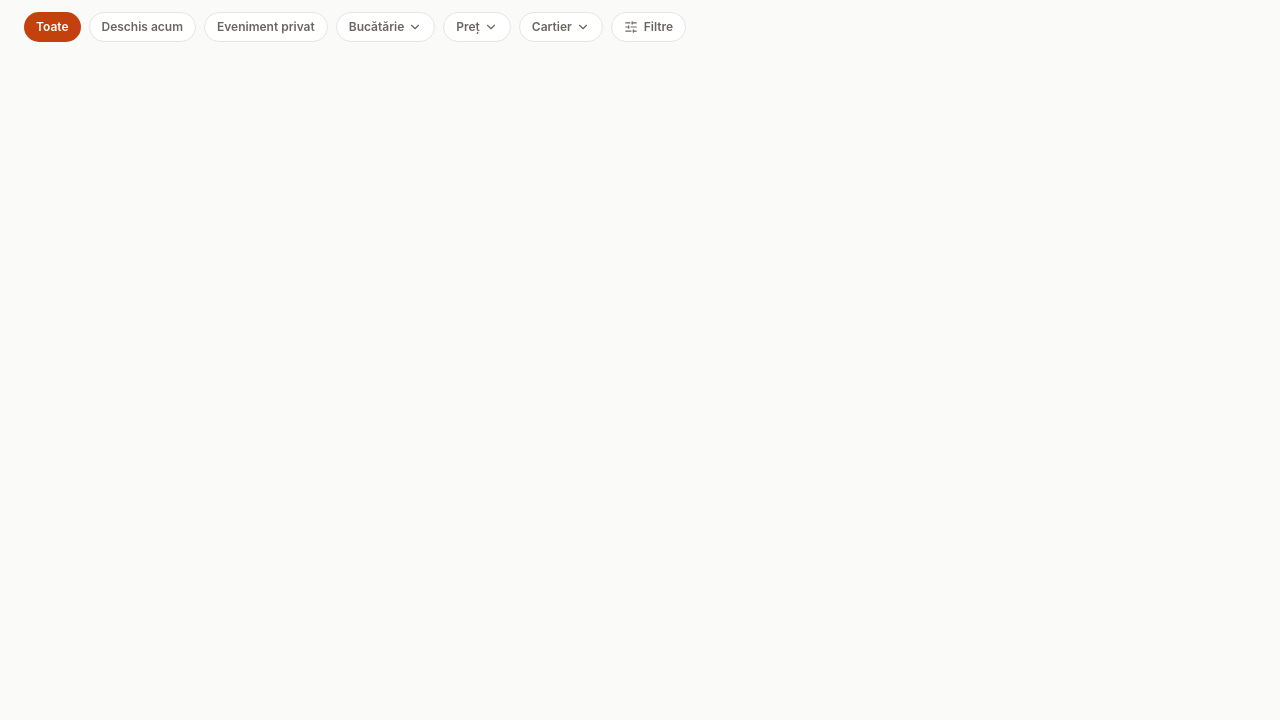
Test: FilterPillBar › clicking Bucătărie opens an inline popover with cuisine items
What coordinates should you click on to do the following:
click the button "Bucătărie"
I would click on:
 (385, 27)
Its box is x1=336 y1=12 x2=435 y2=42.
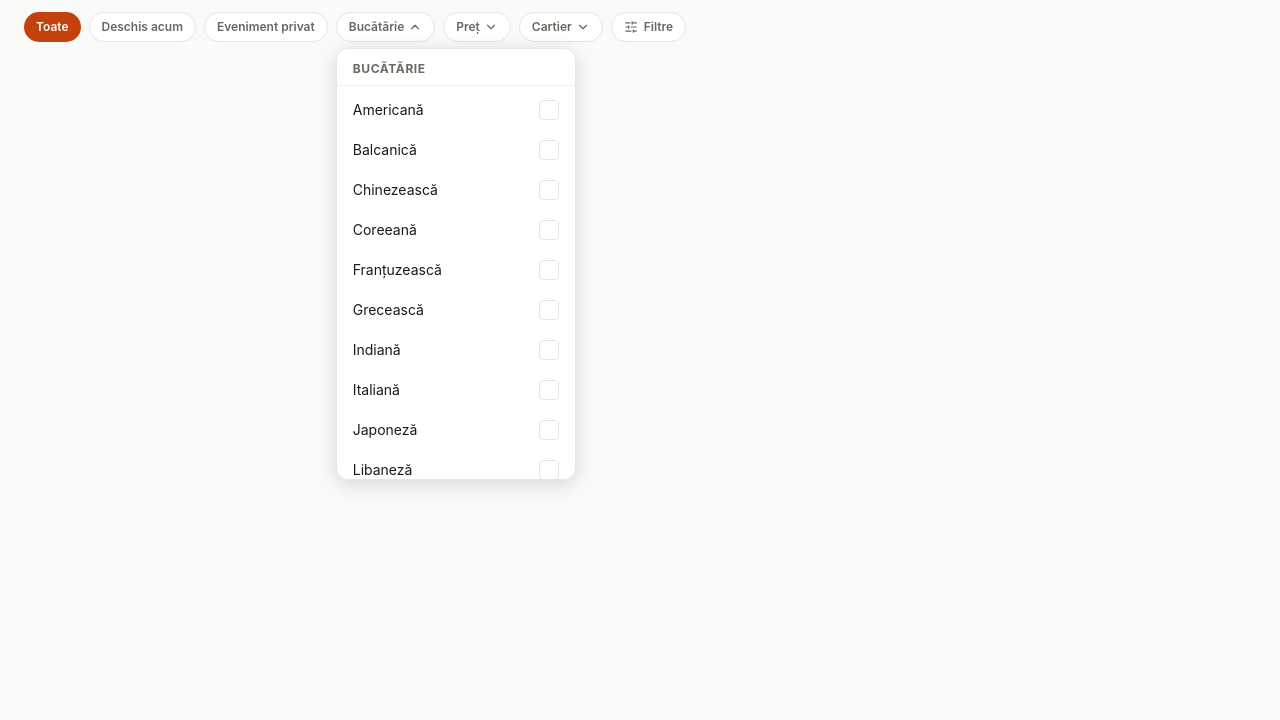
Now the text "Italiană" is shown, box x1=353 y1=380 x2=400 y2=400
Now the text "Japoneză" is shown, box x1=353 y1=420 x2=417 y2=440
